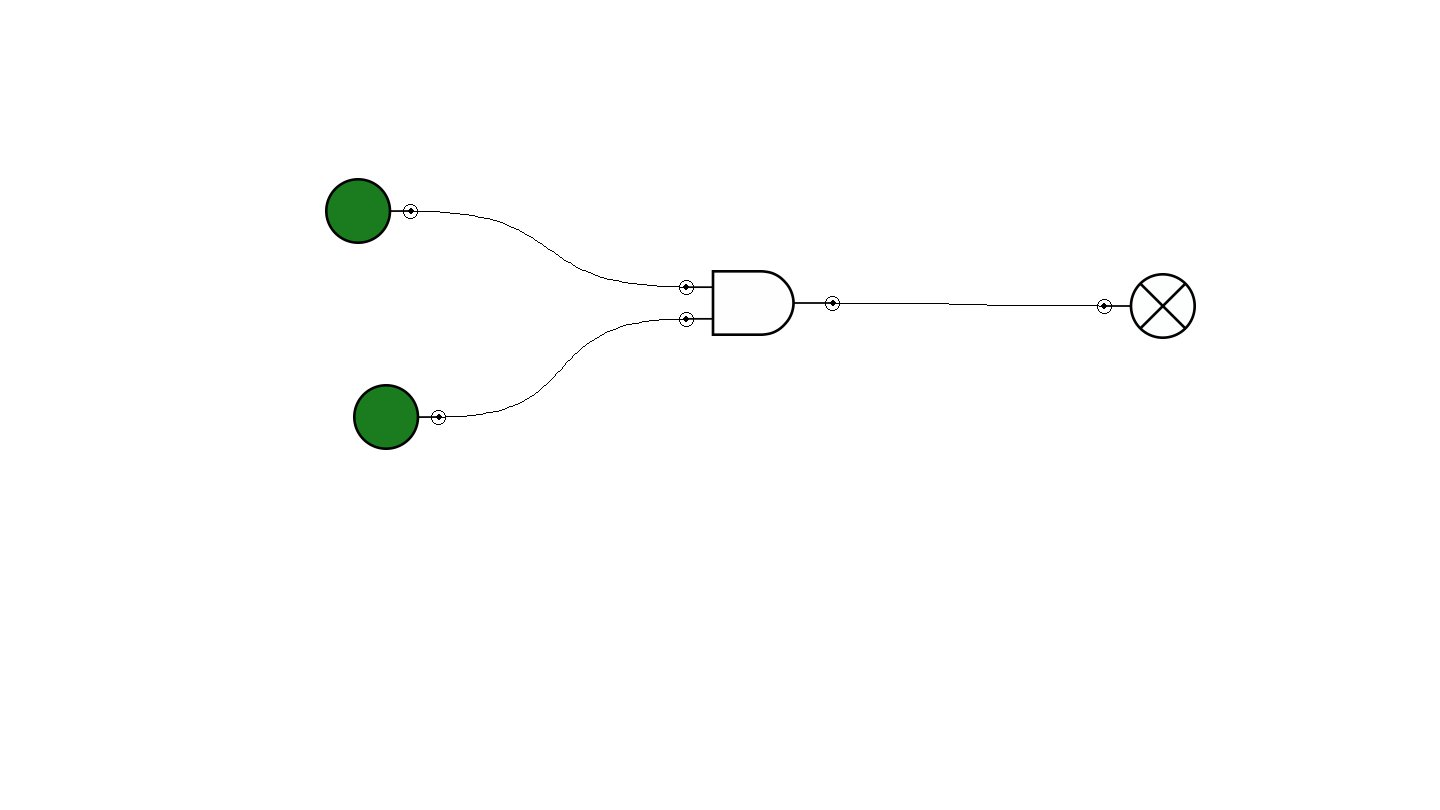and: (679, 270, 840, 336)
bulb: (1097, 273, 1196, 339)
switch_True: (353, 384, 446, 450), (325, 178, 418, 244)
